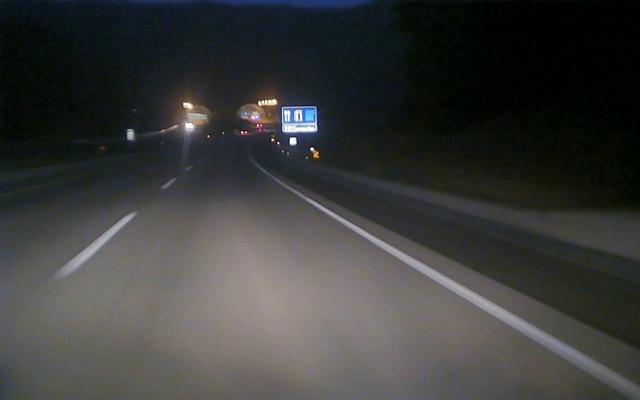lane: (280, 181, 640, 400), (54, 177, 177, 281)
